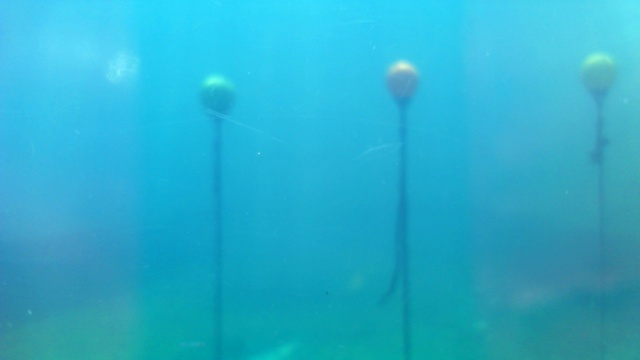buoy_green: (194, 71, 238, 120)
buoy_red: (386, 64, 419, 100)
